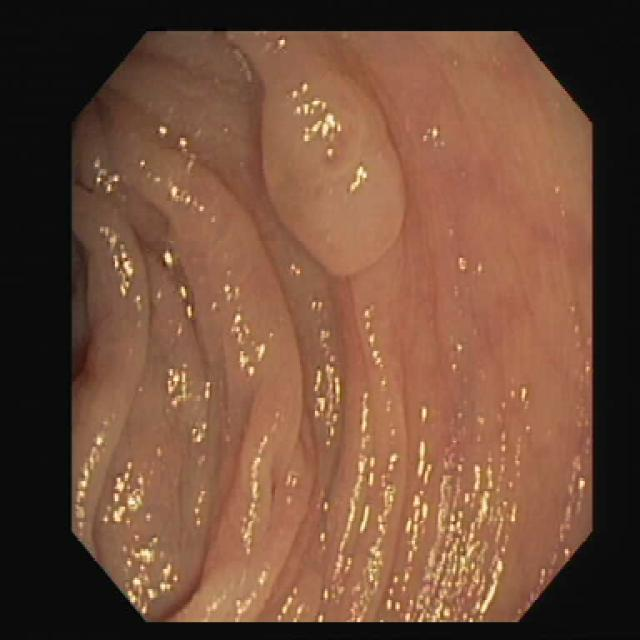tumor: (263, 62, 403, 276)
